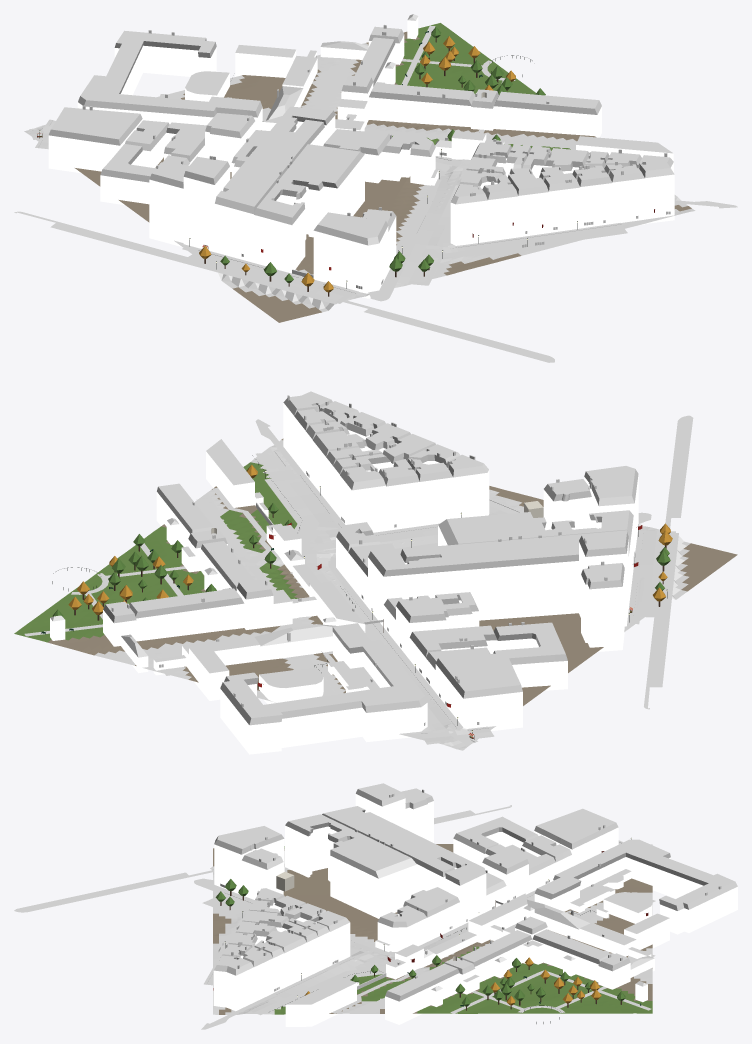
Rendered from zone_B5.glb.
3 renders of one model, top to bottom at view 1: azimuth 30°, elevation 25°; view 2: azimuth 150°, elevation 25°; view 3: azimuth 270°, elevation 25°, orthographic. The views are drawn at different scales.
Parts seen in each view (by area): view 1: zone_B5_batiments, zone_B5_terrain, zone_B5_sol_NOCOL, zone_B5_decor_NOCOL; view 2: zone_B5_batiments, zone_B5_terrain, zone_B5_sol_NOCOL, zone_B5_decor_NOCOL; view 3: zone_B5_batiments, zone_B5_terrain, zone_B5_sol_NOCOL, zone_B5_decor_NOCOL.
Part boxes in pixels (x1=…): zone_B5_batiments: x1=48, y1=14, x2=674, y2=298; zone_B5_terrain: x1=24, y1=23, x2=695, y2=322; zone_B5_sol_NOCOL: x1=14, y1=25, x2=737, y2=362; zone_B5_decor_NOCOL: x1=39, y1=27, x2=577, y2=296; zone_B5_batiments: x1=50, y1=391, x2=638, y2=754; zone_B5_terrain: x1=14, y1=438, x2=737, y2=750; zone_B5_sol_NOCOL: x1=24, y1=415, x2=693, y2=749; zone_B5_decor_NOCOL: x1=41, y1=455, x2=672, y2=736; zone_B5_batiments: x1=213, y1=783, x2=737, y2=1026; zone_B5_terrain: x1=213, y1=844, x2=652, y2=1014; zone_B5_sol_NOCOL: x1=14, y1=805, x2=655, y2=1029; zone_B5_decor_NOCOL: x1=215, y1=838, x2=641, y2=1023.
Bounding box in the file's own units: 262 × 37.4 × 351.
